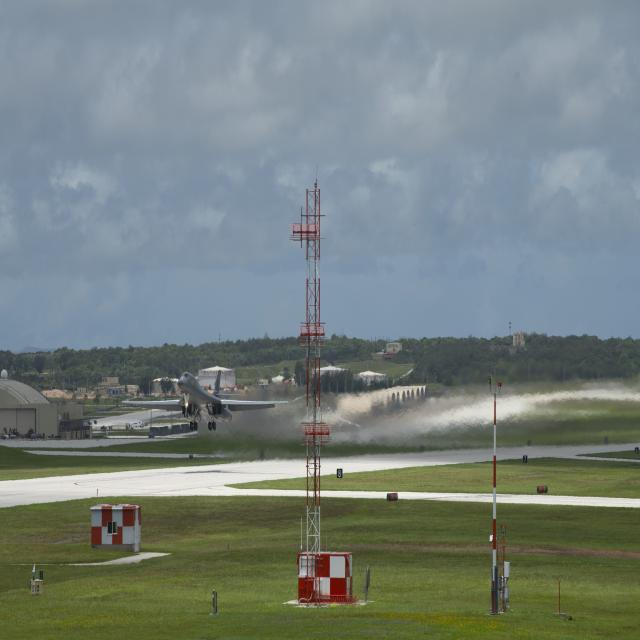MIL_Plane: (146, 363, 253, 424)
